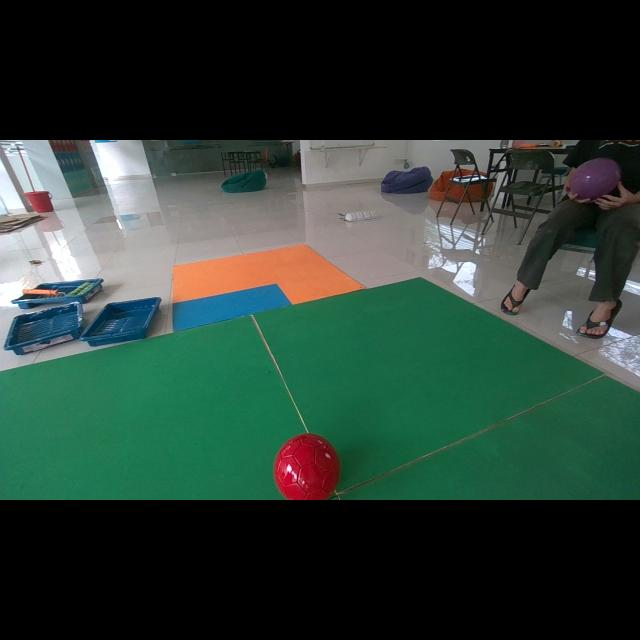P: (570, 158, 621, 199)
R: (274, 432, 340, 500)
